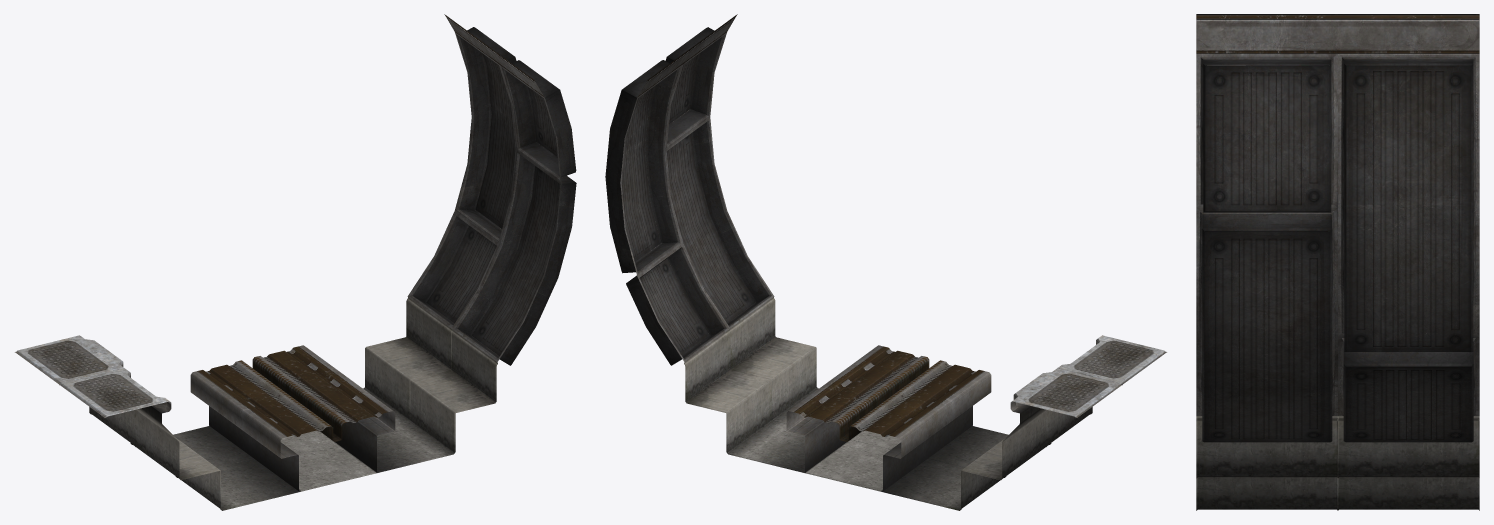
The model's file is theta_traintunnel_noroof.dae.
3 views of the same model, side by side, from view 1: azimuth 30°, elevation 25°; view 2: azimuth 150°, elevation 25°; view 3: azimuth 270°, elevation 25° (orthographic). The views are drawn at different scales.
Visible parts, largest first — view 1: polySurface1580; view 2: polySurface1580; view 3: polySurface1580.
Part boxes in pixels (bbox=[...]): polySurface1580: bbox=[15, 14, 576, 510]; polySurface1580: bbox=[605, 14, 1166, 510]; polySurface1580: bbox=[1196, 14, 1479, 510].
Size of the model in its own units: 6.1 by 4.36 by 2.
